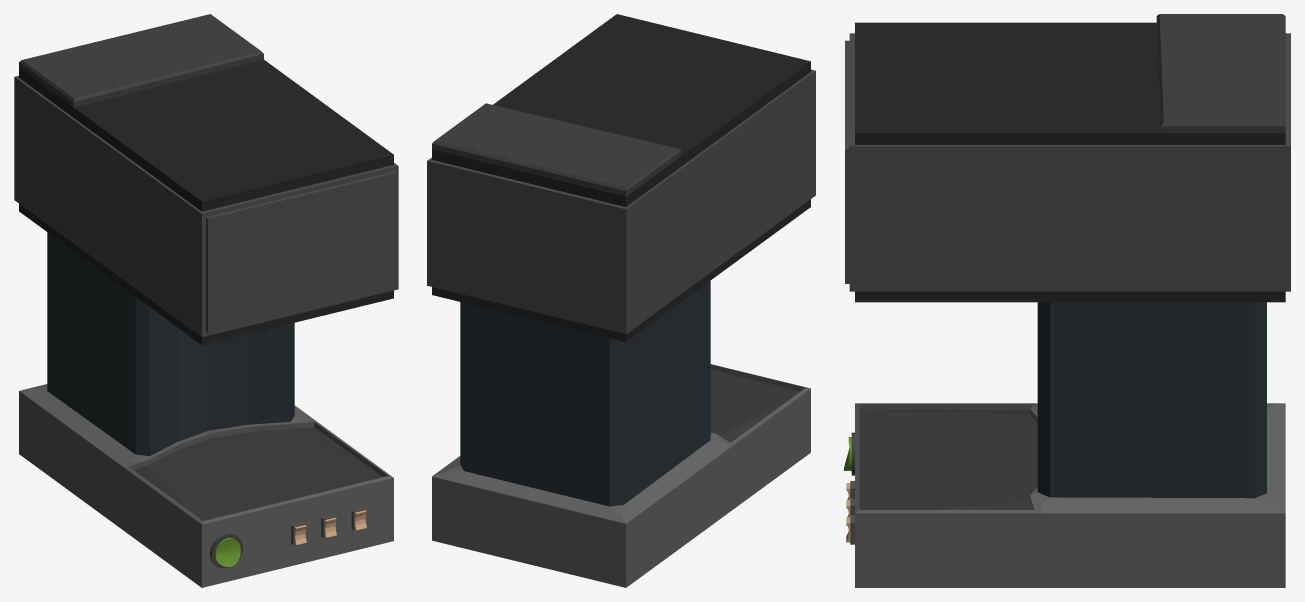
File: Coffee Machine #1 Empty.fbx
The picture shows the model from 3 angles, left to right: view 1: azimuth 30°, elevation 25°; view 2: azimuth 150°, elevation 25°; view 3: azimuth 270°, elevation 25°; orthographic projection. The views are drawn at different scales.
Parts seen in each view (by area): view 1: Coffee Machine #1 Empty; view 2: Coffee Machine #1 Empty; view 3: Coffee Machine #1 Empty.
Part boxes in pixels (x1,y1,x2,y2): Coffee Machine #1 Empty: (14,14,398,587); Coffee Machine #1 Empty: (427,14,815,587); Coffee Machine #1 Empty: (844,14,1290,587).
Size of the model in its own units: 46.16 by 88.49 by 77.13.
2 materials, 2 textured.
